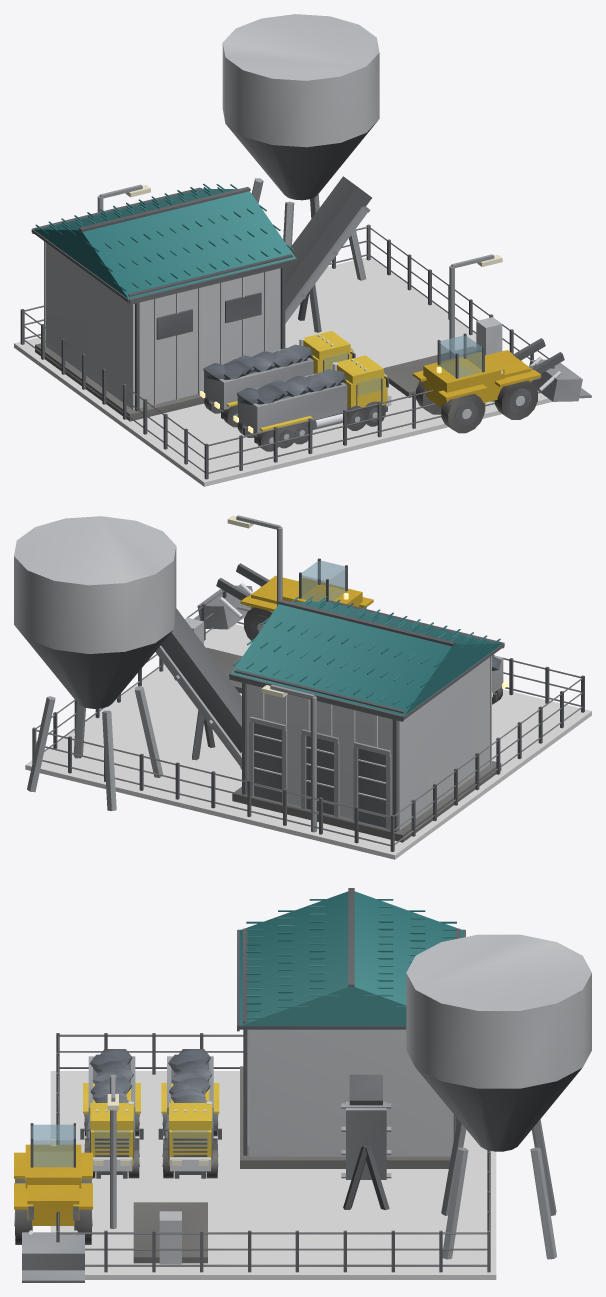
Rendered from Haul_P3.fbx.
The picture shows the model from 3 angles, top to bottom: view 1: azimuth 30°, elevation 25°; view 2: azimuth 150°, elevation 25°; view 3: azimuth 270°, elevation 25°; orthographic projection. The views are drawn at different scales.
Visible parts, largest first — view 1: Haul.Workshop, Haul.Hopper, Haul.Yard, Haul.Loader, Haul.Parked1, Haul.Fence, Haul.Parked0, Haul.Conv, Haul.Weighbridge, Haul.Lamp0; view 2: Haul.Workshop, Haul.Hopper, Haul.Yard, Haul.Fence, Haul.Conv, Haul.Loader, Haul.Lamp1, Haul.Lamp0, Haul.Weighbridge, Haul.Parked1; view 3: Haul.Workshop, Haul.Yard, Haul.Hopper, Haul.Loader, Haul.Fence, Haul.Parked0, Haul.Parked1, Haul.Conv, Haul.Weighbridge, Haul.Lamp0.
Boxes of the visible parts, x1,y1,x2,y2 form: Haul.Workshop: (31, 183, 297, 421); Haul.Hopper: (222, 14, 379, 280); Haul.Yard: (14, 257, 552, 486); Haul.Loader: (412, 333, 591, 433); Haul.Parked1: (233, 355, 391, 451); Haul.Fence: (20, 224, 554, 479); Haul.Parked0: (200, 331, 355, 427); Haul.Conv: (285, 176, 371, 332); Haul.Weighbridge: (383, 317, 502, 397); Haul.Lamp0: (449, 254, 502, 358); Haul.Workshop: (229, 596, 504, 842); Haul.Hopper: (14, 516, 176, 810); Haul.Yard: (25, 624, 591, 859); Haul.Fence: (32, 590, 584, 851); Haul.Conv: (155, 608, 241, 769); Haul.Loader: (194, 558, 373, 640); Haul.Lamp1: (261, 684, 316, 832); Haul.Lamp0: (227, 515, 282, 605); Haul.Weighbridge: (185, 617, 242, 693); Haul.Parked1: (492, 654, 507, 704); Haul.Workshop: (237, 888, 465, 1168); Haul.Yard: (50, 1071, 496, 1279); Haul.Hopper: (406, 934, 591, 1259); Haul.Loader: (14, 1123, 92, 1282); Haul.Fence: (56, 1033, 490, 1272); Haul.Parked0: (158, 1049, 221, 1178); Haul.Parked1: (80, 1049, 143, 1178); Haul.Conv: (341, 1074, 391, 1210); Haul.Weighbridge: (133, 1202, 207, 1264); Haul.Lamp0: (107, 1074, 118, 1229).
Bounding box in the file's own units: 2734 × 1598 × 3113.
